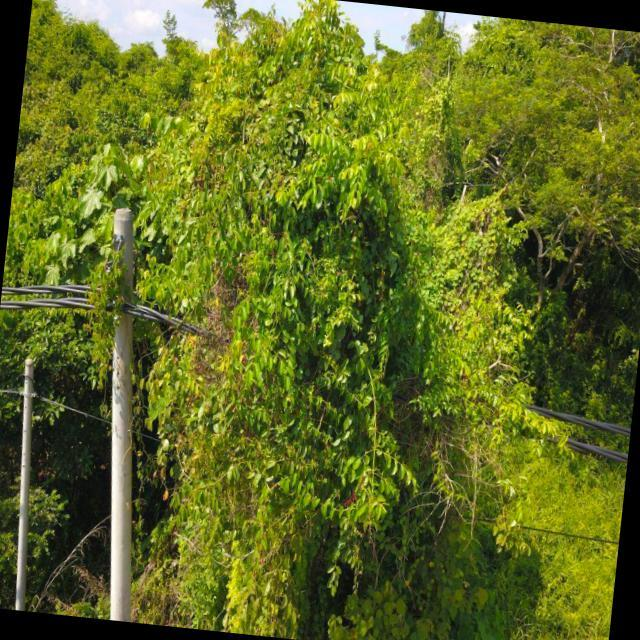critical vegetation: (166, 304, 592, 471), (60, 224, 148, 399)
